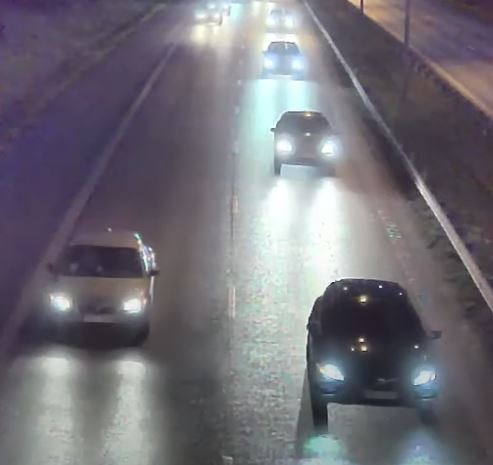Car: (305, 276, 443, 427), (44, 227, 159, 339), (271, 110, 338, 176), (261, 38, 305, 80)
